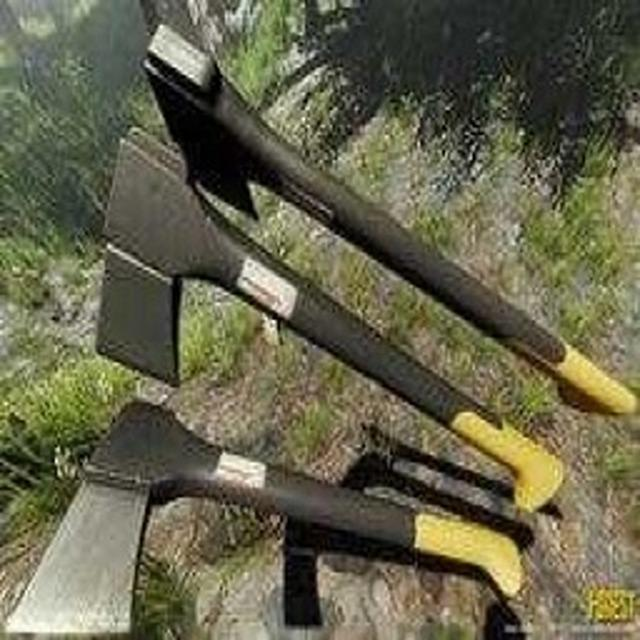ax: (137, 12, 637, 424), (86, 120, 582, 511), (4, 398, 528, 640)
